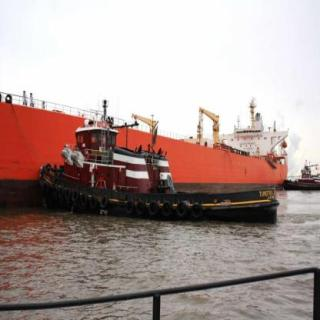Tug Boat: (29, 100, 282, 218)
